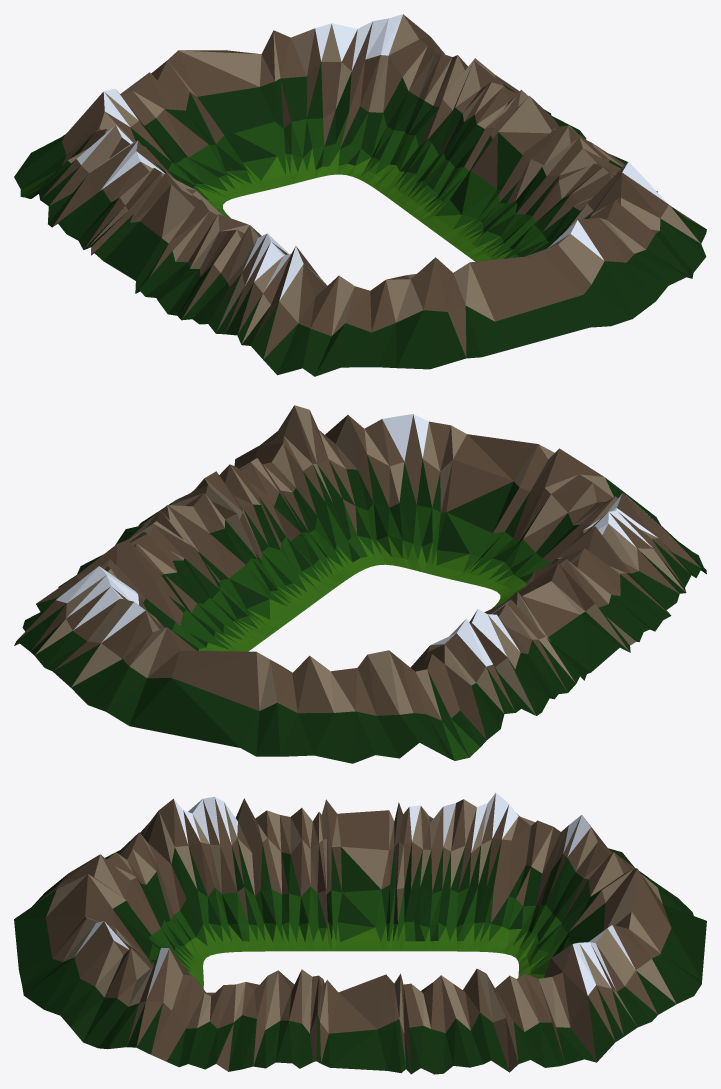
The model's file is Mountains.fbx.
The picture shows the model from 3 angles, top to bottom: view 1: azimuth 30°, elevation 25°; view 2: azimuth 150°, elevation 25°; view 3: azimuth 270°, elevation 25°; orthographic projection. The views are drawn at different scales.
Visible parts, largest first — view 1: Mountains; view 2: Mountains; view 3: Mountains.
Part boxes in pixels (bbox=[...]): Mountains: bbox=[14, 14, 706, 376]; Mountains: bbox=[14, 405, 706, 763]; Mountains: bbox=[14, 793, 706, 1074].
Bounding box in the file's own units: 277 × 62.6 × 346.
